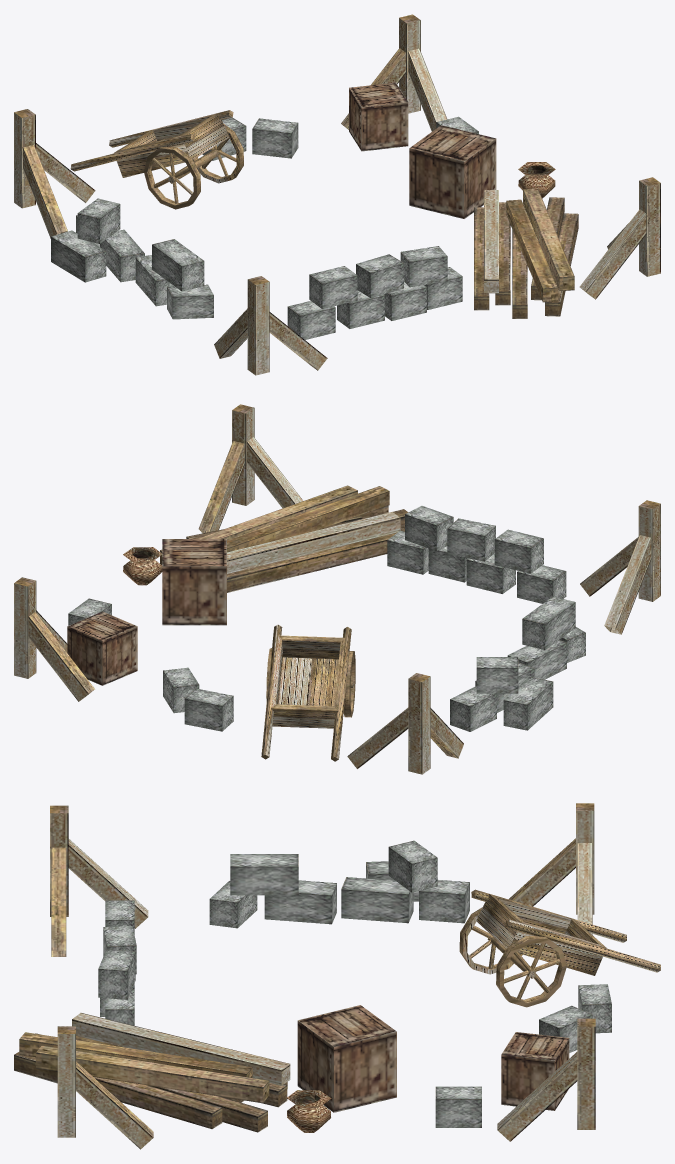
Rendered from found_3x3_c.dae.
3 renders of one model, top to bottom at view 1: azimuth 30°, elevation 25°; view 2: azimuth 150°, elevation 25°; view 3: azimuth 270°, elevation 25°, orthographic. The views are drawn at different scales.
Parts seen in each view (by area): view 1: objhand_cart_final02-Pivot; view 2: objhand_cart_final02-Pivot; view 3: objhand_cart_final02-Pivot.
Boxes of the visible parts, x1,y1,x2,y2 form: objhand_cart_final02-Pivot: [14, 14, 660, 375]; objhand_cart_final02-Pivot: [14, 404, 660, 774]; objhand_cart_final02-Pivot: [14, 803, 660, 1149].
Size of the model in its own units: 14.19 by 15.57 by 3.08.
